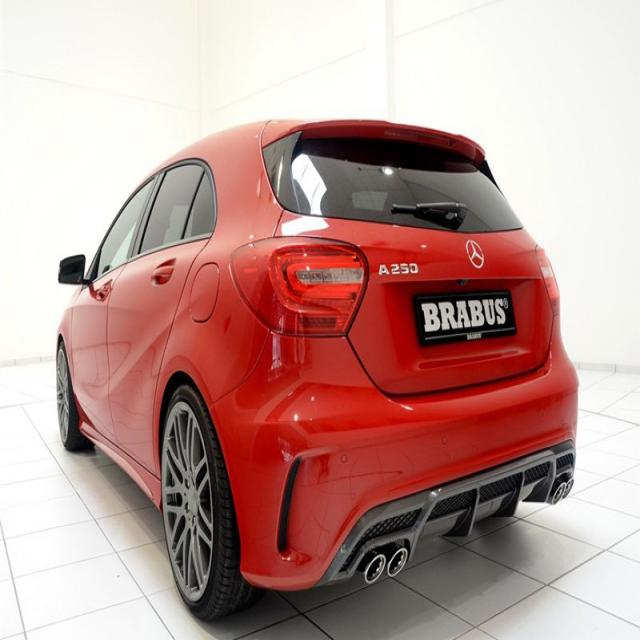back_glass: (288, 138, 524, 232)
back_left_side_light: (226, 232, 372, 338)
back_right_side_light: (533, 240, 562, 320)
door: (110, 150, 219, 443)
front_left_side_door: (70, 166, 162, 450)
front_left_side_mirror: (57, 254, 87, 290)
rear_bumper: (208, 329, 580, 592)
wheel: (161, 390, 244, 618), (56, 348, 85, 449)
